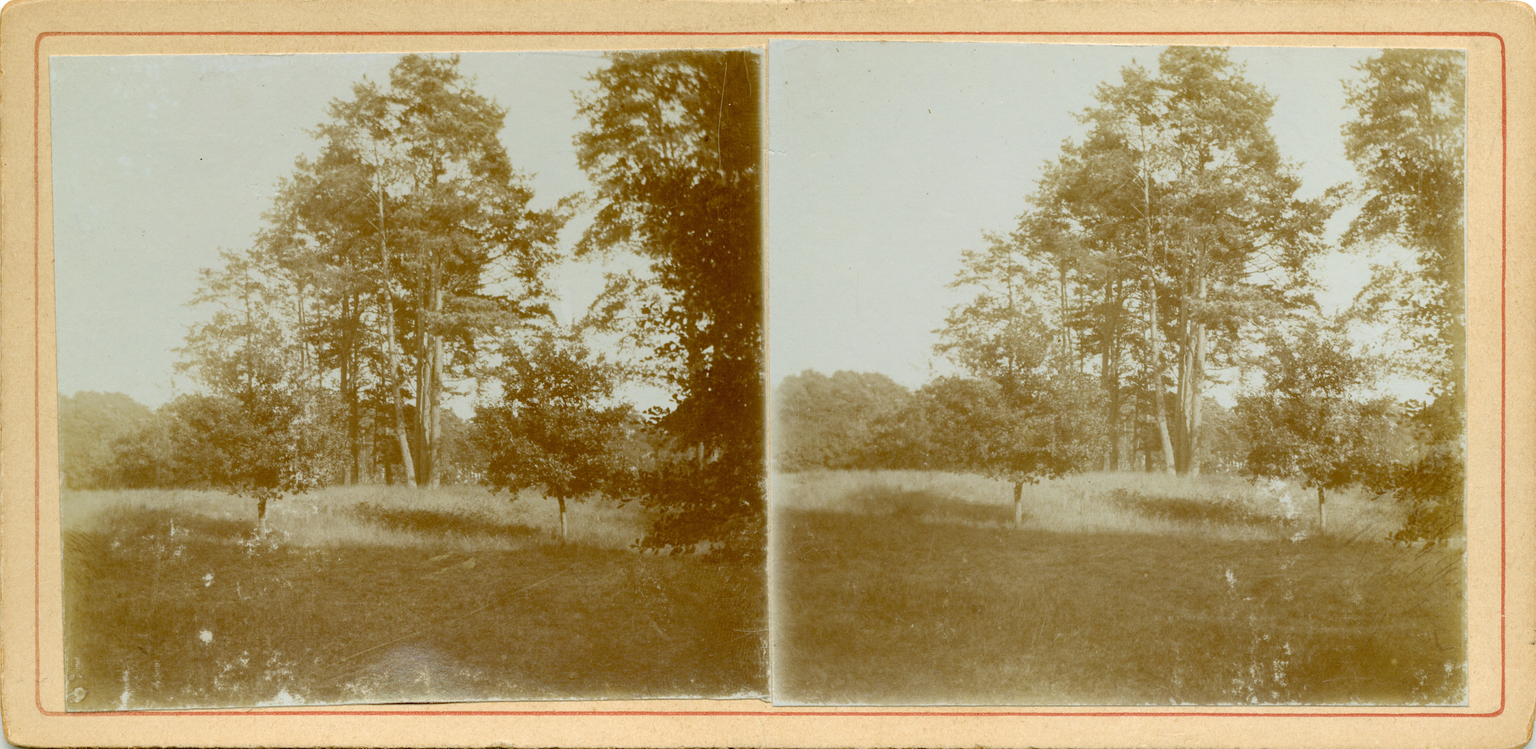half_image: (49, 49, 770, 712), (767, 39, 1468, 705)
